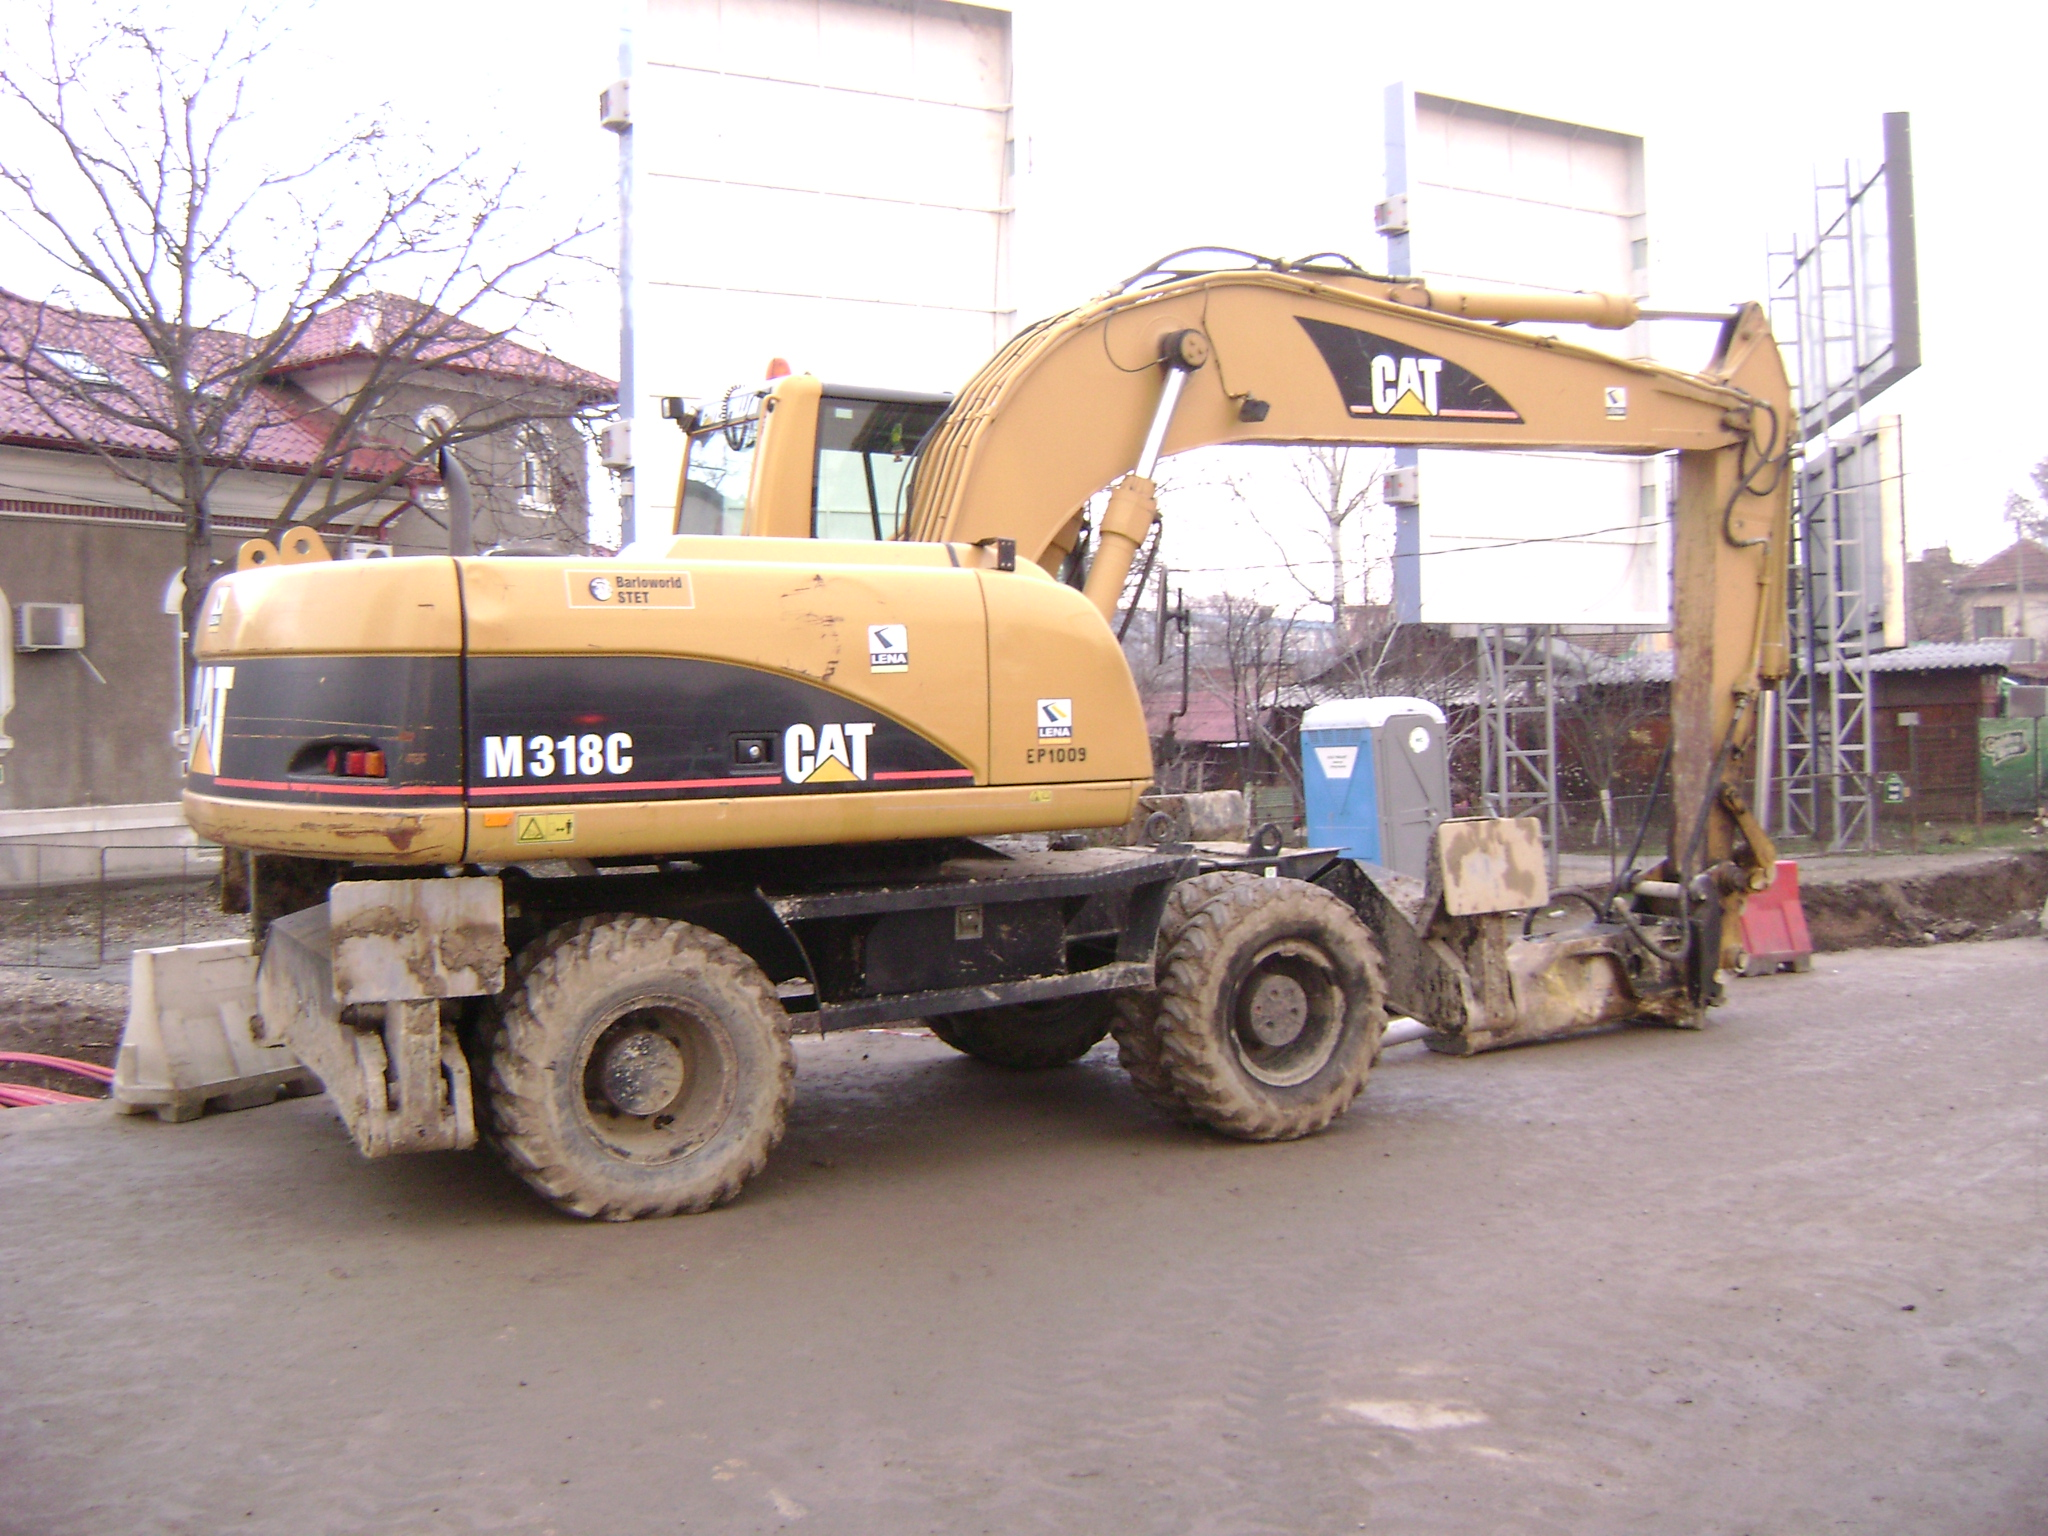excavator: (189, 244, 1821, 1233)
